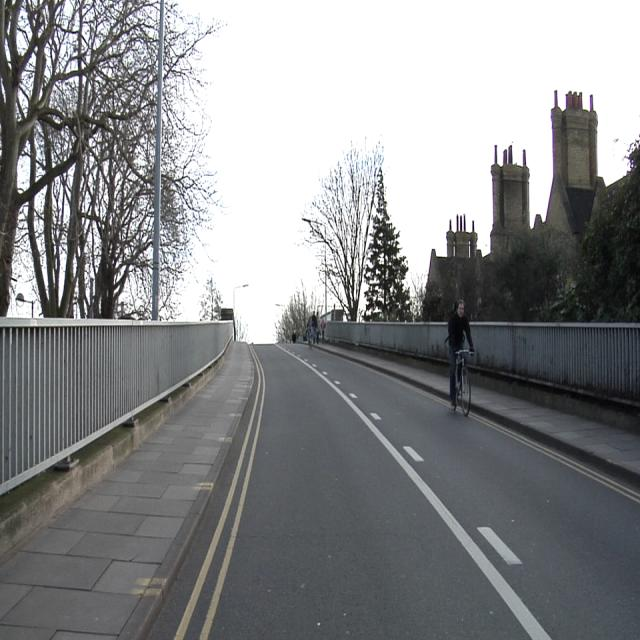Bicyclist: (447, 300, 472, 414)
Building: (428, 147, 531, 293), (532, 92, 605, 250)
Road: (182, 344, 637, 638)
Tree: (1, 3, 157, 318), (301, 146, 410, 320), (162, 4, 222, 319), (275, 283, 318, 342), (200, 278, 221, 319)
